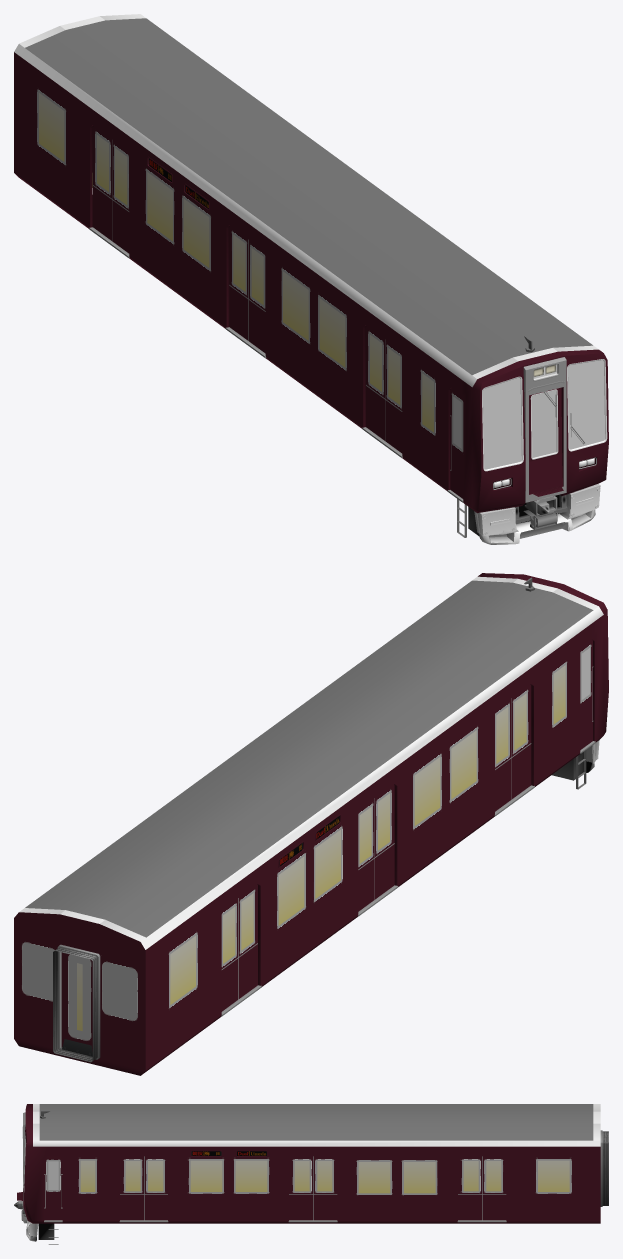
The picture shows the model from 3 angles, top to bottom: view 1: azimuth 30°, elevation 25°; view 2: azimuth 150°, elevation 25°; view 3: azimuth 270°, elevation 25°; orthographic projection. The views are drawn at different scales.
Visible parts, largest first — view 1: in_light, BANPER, R_BANPER; view 2: in_light, BANPER; view 3: in_light, R_BANPER, FOR.
Part boxes in pixels (x1,y1,x2,y2): in_light: (14,14,608,537); BANPER: (468,487,592,544); R_BANPER: (488,484,600,543); in_light: (14,573,608,1075); BANPER: (551,740,599,780); in_light: (14,1104,608,1244); R_BANPER: (26,1220,54,1241); FOR: (192,1151,266,1155).
Size of the model in its own units: 6.3 by 8.56 by 39.43.
34 materials, 32 textured.
